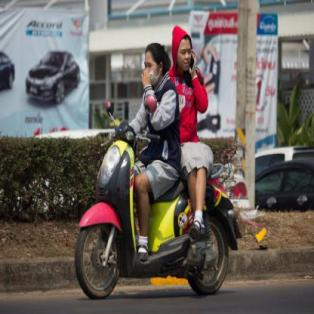Motocicleta: (74, 97, 235, 306)
